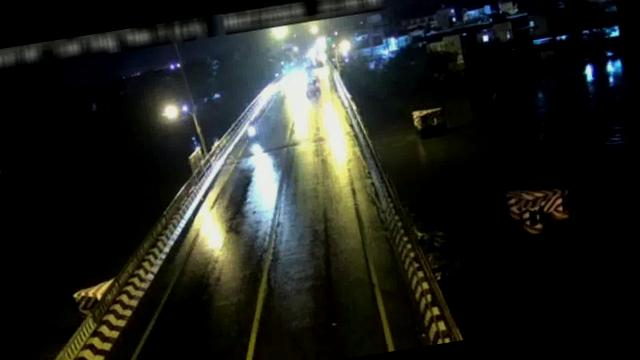Bike: (243, 120, 260, 144)
